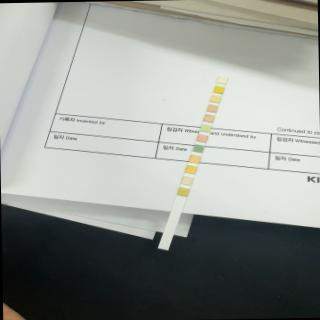mark: (196, 134, 208, 142), (178, 187, 188, 196), (185, 165, 196, 173), (182, 176, 192, 184), (190, 154, 200, 162), (193, 144, 203, 152), (200, 123, 210, 131), (210, 95, 220, 102), (214, 86, 224, 93), (205, 114, 214, 121), (217, 76, 226, 83), (208, 104, 216, 111)
